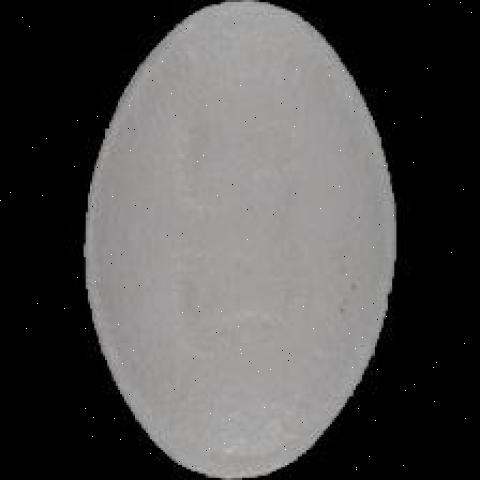Pill: (51, 1, 427, 476)
